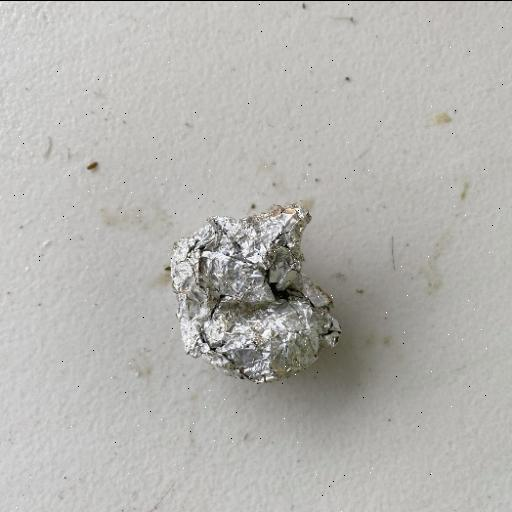Metal: (168, 202, 343, 384)
